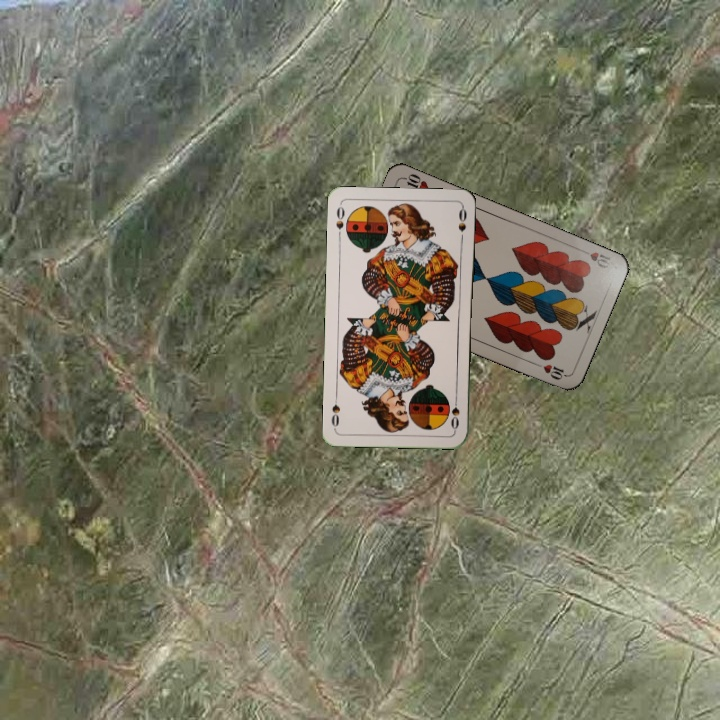H10: (575, 245, 613, 271)
SO: (447, 392, 462, 433), (332, 202, 347, 232)
